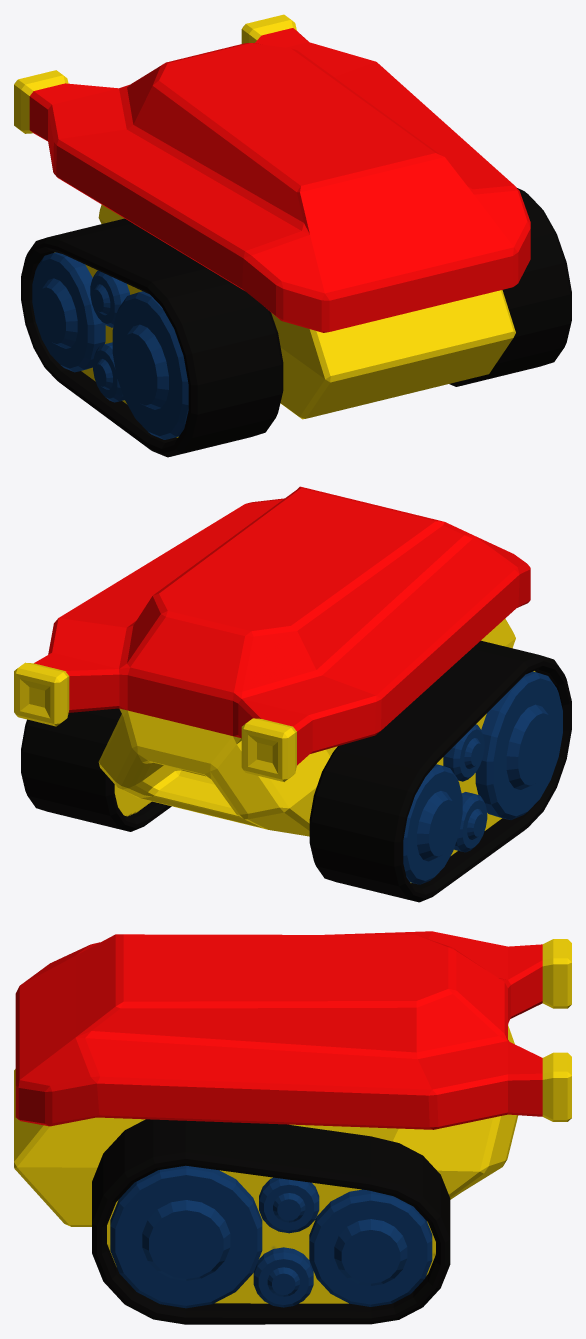
The model's file is tank1 body.fbx.
3 renders of one model, top to bottom at view 1: azimuth 30°, elevation 25°; view 2: azimuth 150°, elevation 25°; view 3: azimuth 270°, elevation 25°, orthographic. The views are drawn at different scales.
Visible parts, largest first — view 1: body tank 1; view 2: body tank 1; view 3: body tank 1.
Part boxes in pixels (left/top/right/bottom): body tank 1: left=14, top=14, right=571, bottom=457; body tank 1: left=14, top=486, right=571, bottom=902; body tank 1: left=14, top=931, right=571, bottom=1324.
Size of the model in its own units: 127 by 78.87 by 151.
